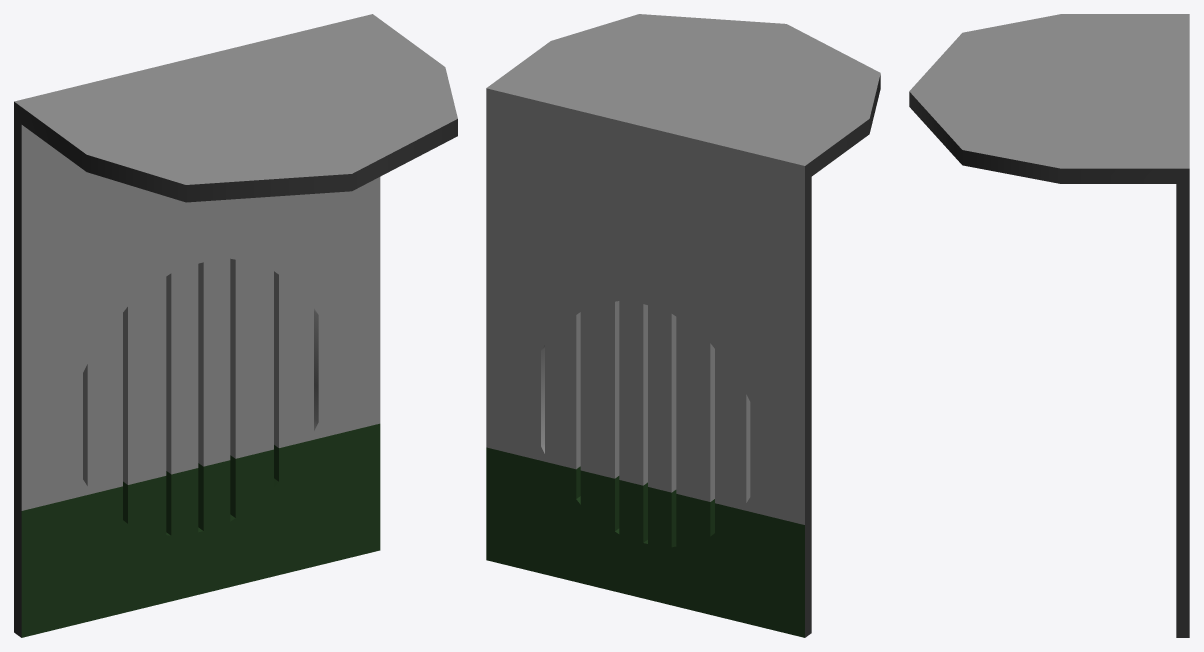
File: W_O_Shade_002_L3.fbx
3 views of the same model, side by side, from view 1: azimuth 30°, elevation 25°; view 2: azimuth 150°, elevation 25°; view 3: azimuth 270°, elevation 25° (orthographic). The views are drawn at different scales.
Visible parts, largest first — view 1: W_O_Shade_002_L3; view 2: W_O_Shade_002_L3; view 3: W_O_Shade_002_L3.
Part boxes in pixels (x1,y1,x2,y2): W_O_Shade_002_L3: [14, 14, 457, 637]; W_O_Shade_002_L3: [486, 14, 880, 637]; W_O_Shade_002_L3: [909, 14, 1189, 637].
Bounding box in the file's own units: 2.8 × 3.96 × 2.14.
